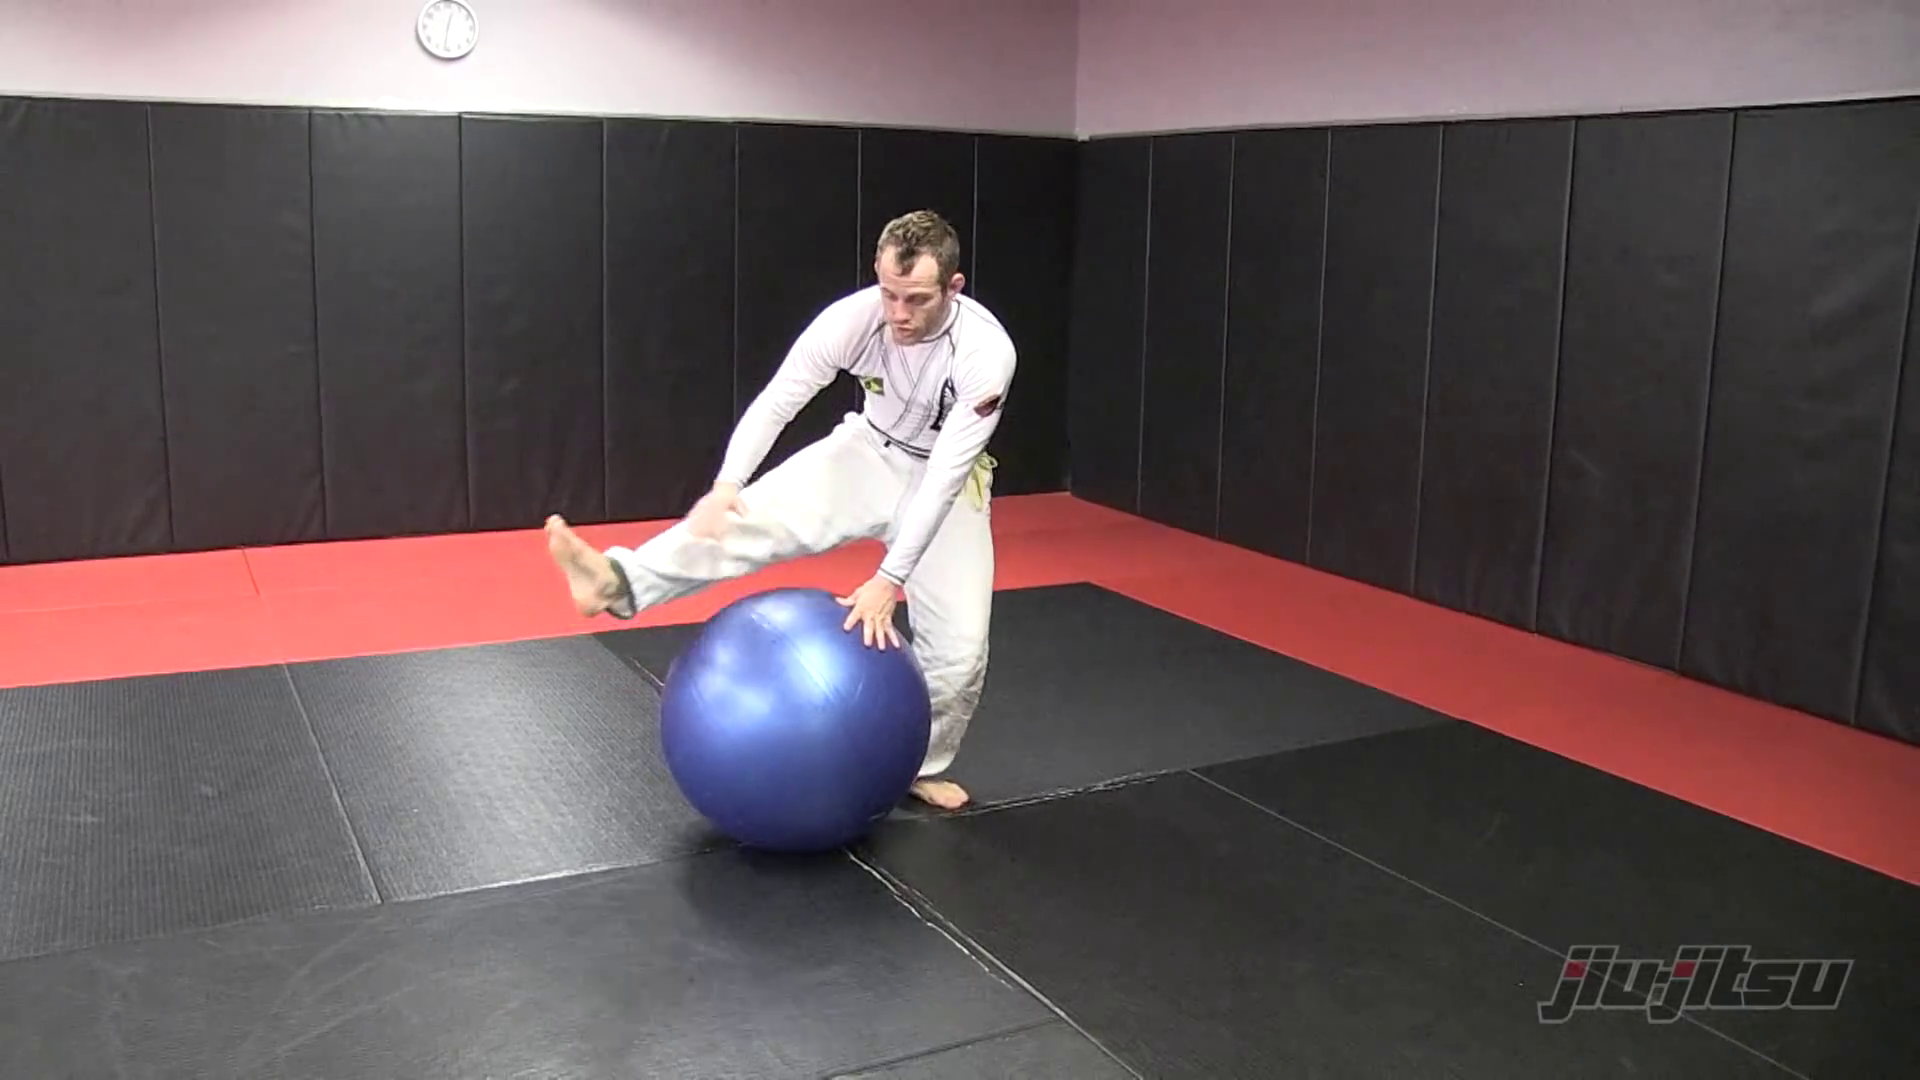yogaball: (638, 576, 960, 862)
